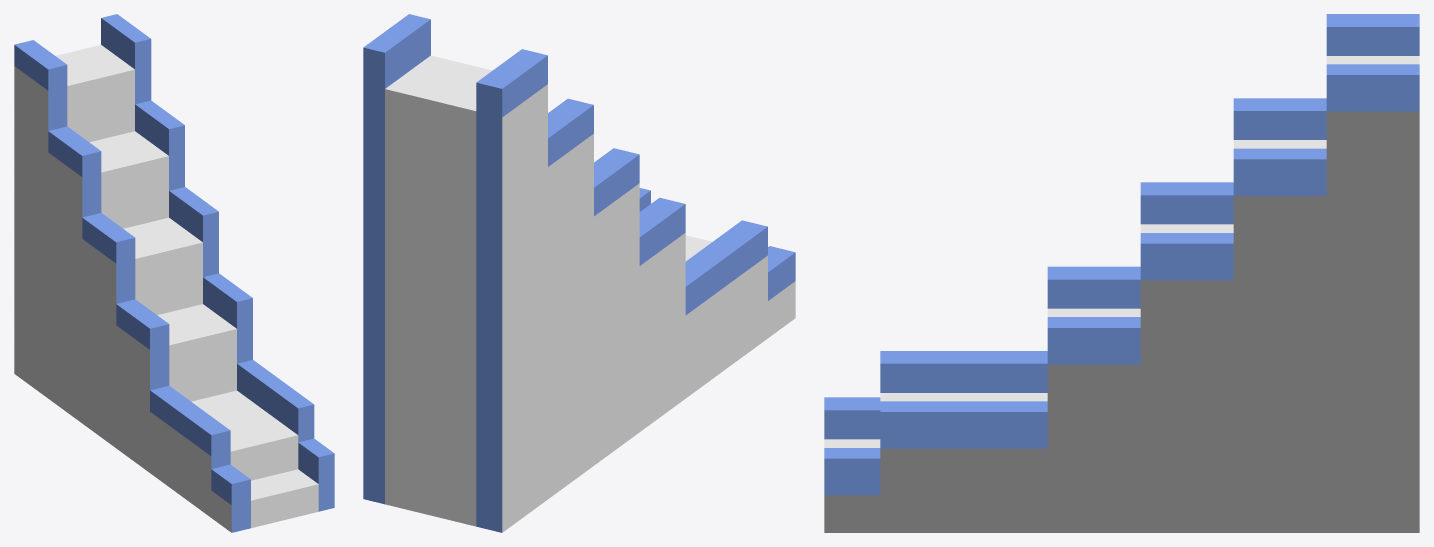
File: stairs.fbx
The picture shows the model from 3 angles, left to right: view 1: azimuth 30°, elevation 25°; view 2: azimuth 150°, elevation 25°; view 3: azimuth 270°, elevation 25°; orthographic projection. The views are drawn at different scales.
Parts seen in each view (by area): view 1: pCube5; view 2: pCube5; view 3: pCube5.
Part boxes in pixels (x1,y1,x2,y2): pCube5: (14,14,334,532); pCube5: (363,14,795,532); pCube5: (824,14,1419,532).
Size of the model in its own units: 2.77 by 8.6 by 10.13.
